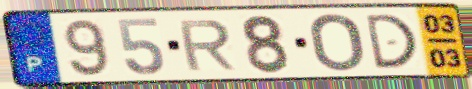5: (115, 16, 167, 78)
8: (239, 13, 293, 75)
9: (59, 18, 113, 78)
D: (362, 12, 420, 71)
O: (307, 12, 367, 74)
R: (175, 18, 239, 73)
